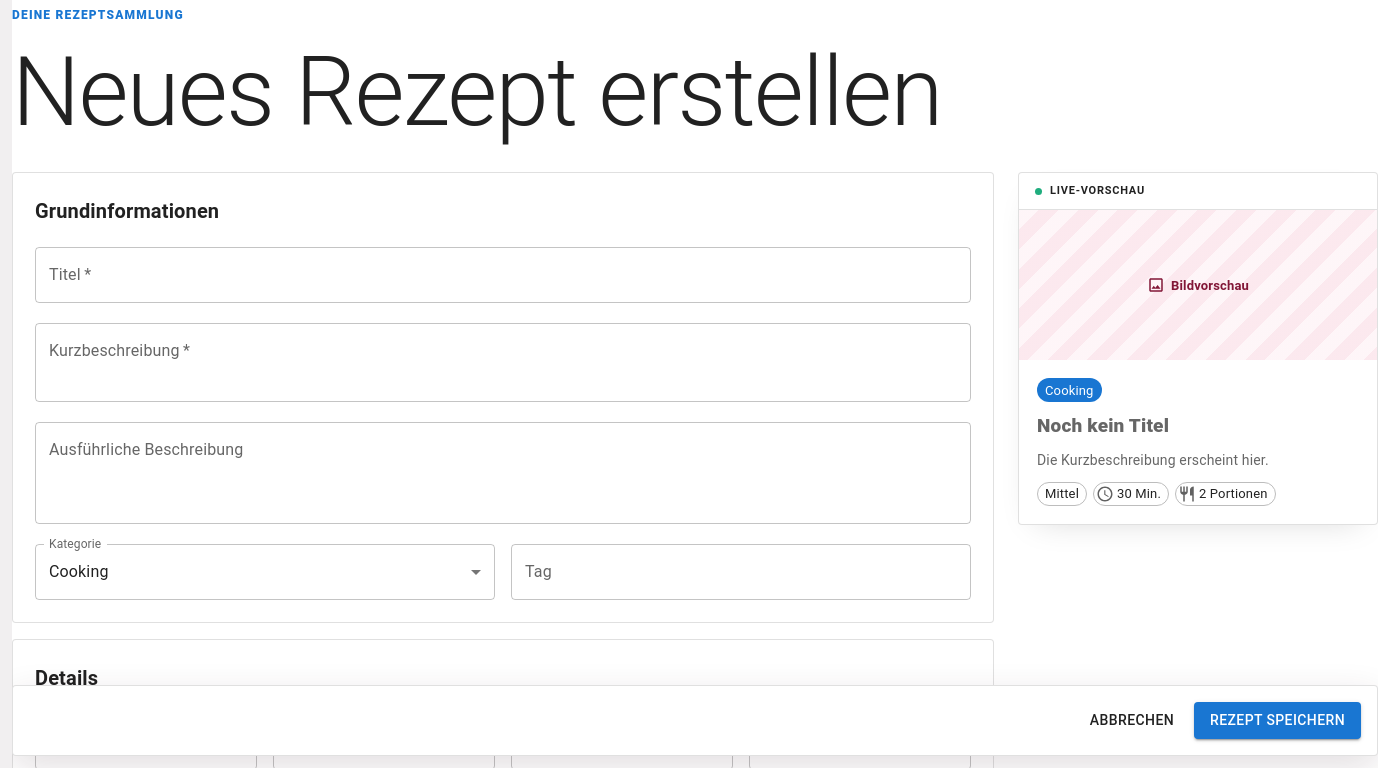
Test: RecipeForm › lists what is missing instead of silently refusing to submit
Click the button "Rezept speichern": (1278, 721) [1194, 702, 1361, 739]
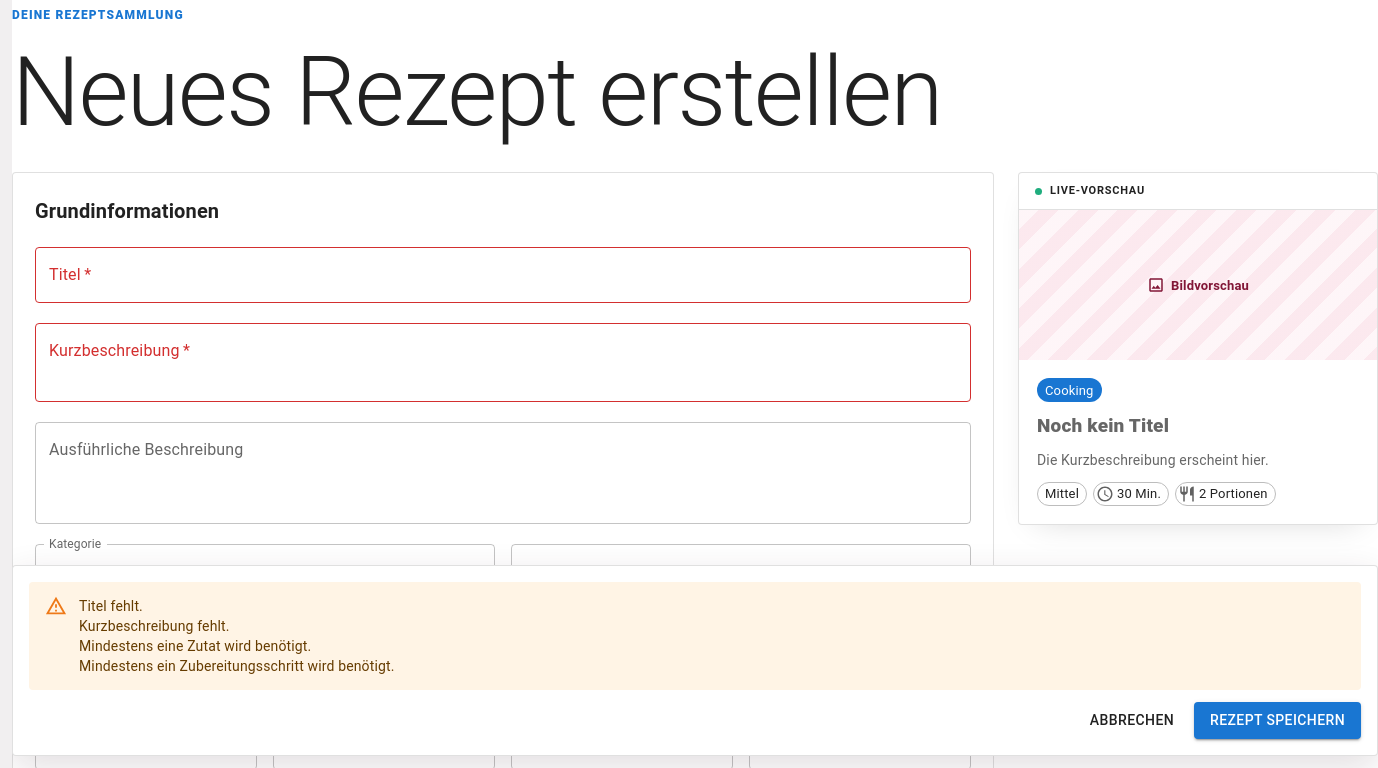
Expected: the message shows "Titel", [79, 598, 143, 614]
Expected: the message shows "Zutat", [79, 638, 312, 654]
